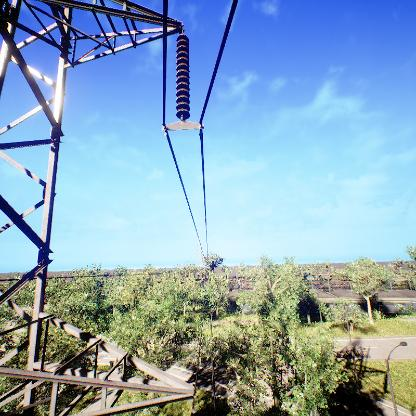insulator: (174, 33, 191, 122)
